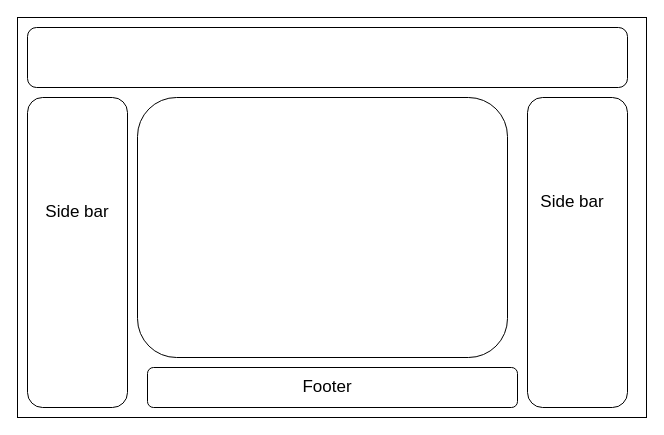
The diagram is 664 pixels wide and 435 high, and some of its shapes have lost their labels. The centre of each missing label's shape, as x and y in pixels:
Body: (322,227)
Header: (327,57)
